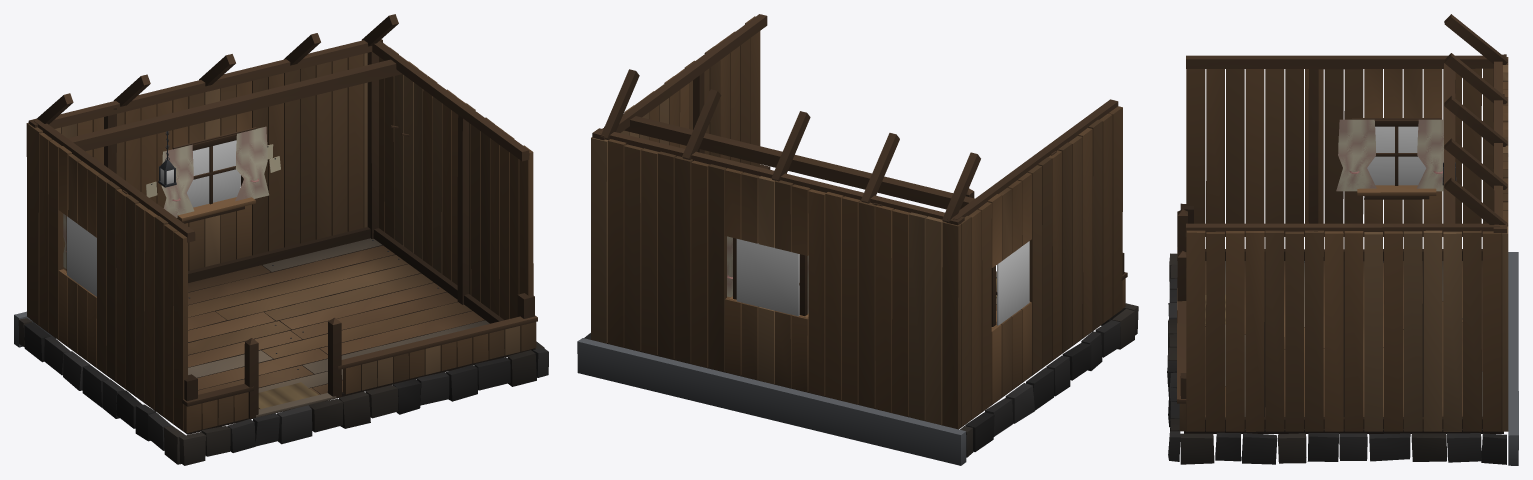
The model's file is ph_int_room.glb.
The picture shows the model from 3 angles, left to right: view 1: azimuth 30°, elevation 25°; view 2: azimuth 150°, elevation 25°; view 3: azimuth 270°, elevation 25°; orthographic projection. The views are drawn at different scales.
Visible parts, largest first — view 1: ph_int_room; view 2: ph_int_room; view 3: ph_int_room.
Boxes of the visible parts, x1=… form: ph_int_room: x1=14, y1=14, x2=548, y2=465; ph_int_room: x1=577, y1=14, x2=1138, y2=465; ph_int_room: x1=1167, y1=14, x2=1518, y2=465.
Size of the model in its own units: 5.01 by 3.48 by 4.
